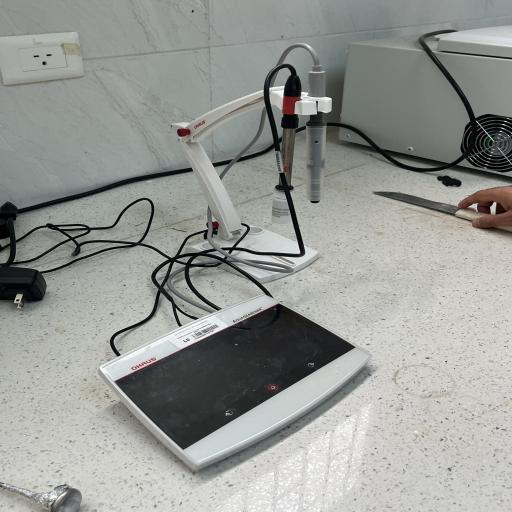Phmetro_Ohaus: (88, 285, 383, 477)
